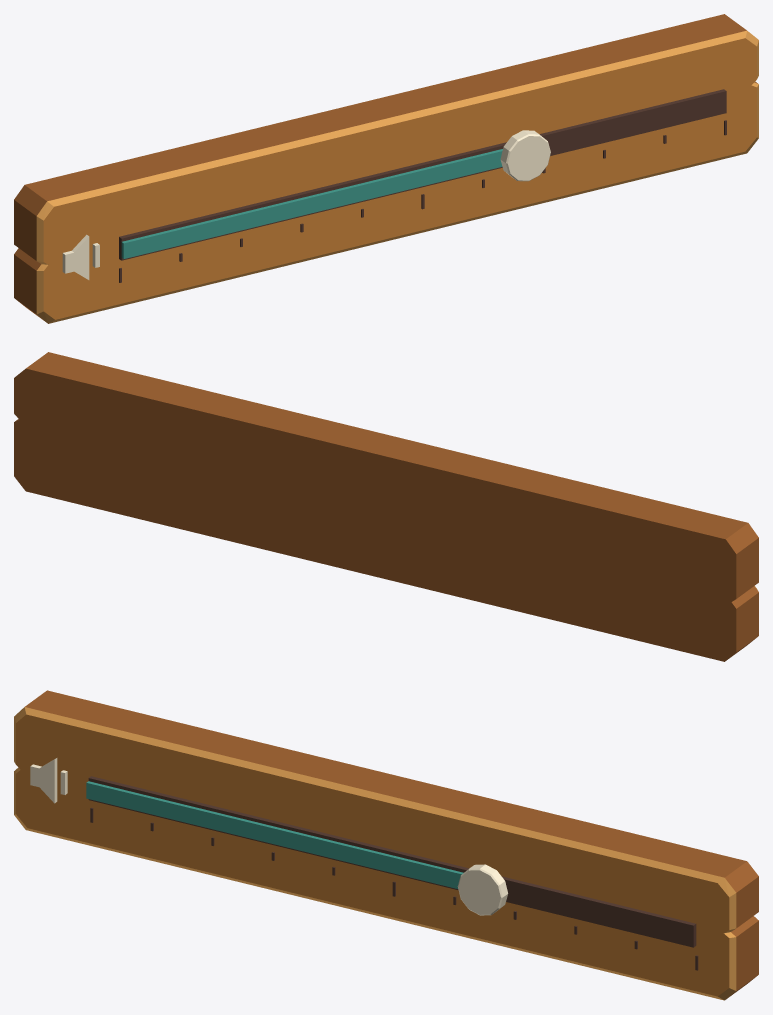
File: Volume_H.fbx
3 views of the same model, one above another, from view 1: azimuth 30°, elevation 25°; view 2: azimuth 150°, elevation 25°; view 3: azimuth 330°, elevation 25° (orthographic).
Visible parts, largest first — view 1: Stone, Rail, Fill, Handle, Speaker; view 2: Stone; view 3: Stone, Rail, Fill, Handle, Speaker.
Boxes of the visible parts, x1,y1,x2,y2 form: Stone: (14,14,758,323); Rail: (119,89,726,260); Fill: (121,149,502,258); Handle: (500,130,550,181); Speaker: (62,234,89,279); Stone: (14,352,758,661); Stone: (14,690,758,1000); Rail: (88,776,696,947); Fill: (86,781,463,888); Handle: (457,864,508,915); Speaker: (30,758,57,803).
Size of the model in its own units: 0.48 by 0.078 by 0.0415.
